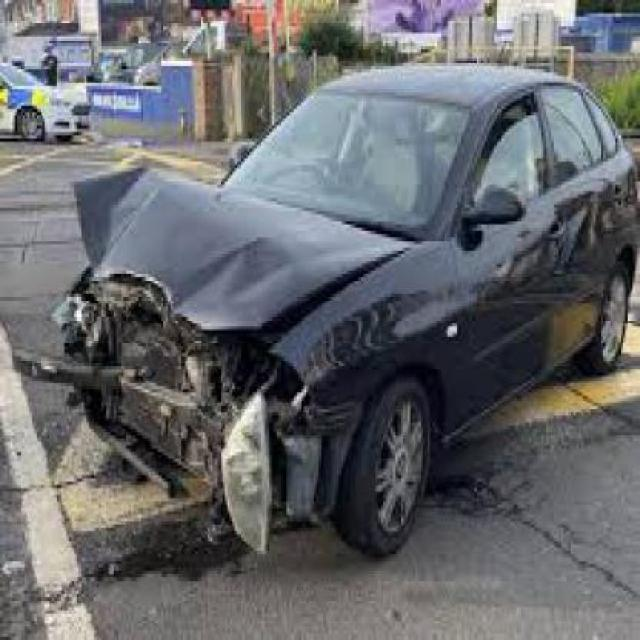damaged-front-bumper: (74, 320, 312, 502)
